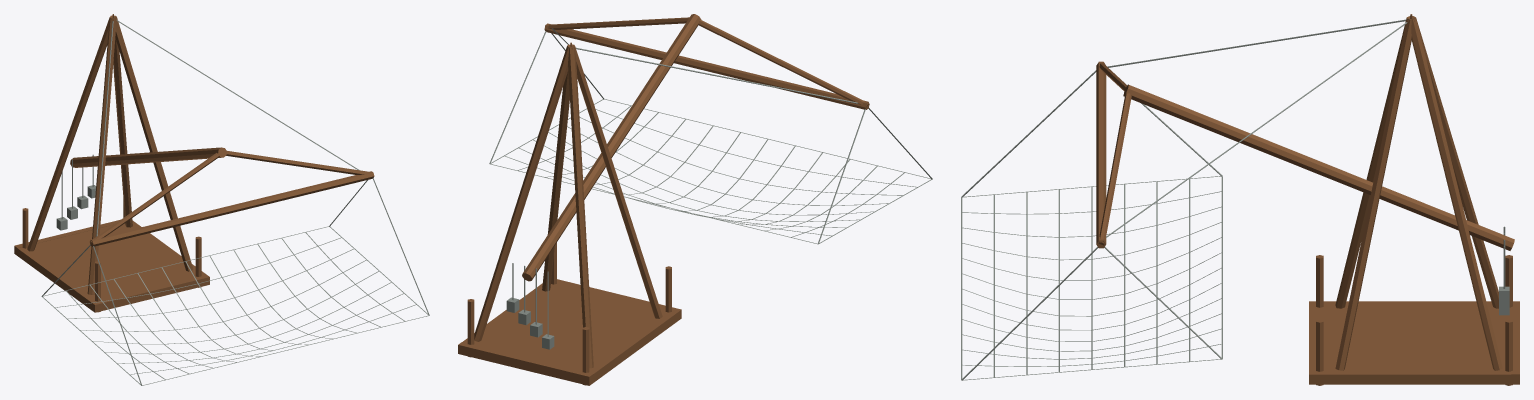
The model's file is ChineseFishingNet.glb.
3 views of the same model, side by side, from view 1: azimuth 30°, elevation 25°; view 2: azimuth 150°, elevation 25°; view 3: azimuth 270°, elevation 25° (orthographic). The views are drawn at different scales.
Parts seen in each view (by area): view 1: ChineseFishingNet_Terracotta_Roof, ChineseFishingNet_Stone_And_Metal; view 2: ChineseFishingNet_Terracotta_Roof, ChineseFishingNet_Stone_And_Metal; view 3: ChineseFishingNet_Terracotta_Roof, ChineseFishingNet_Stone_And_Metal.
Part boxes in pixels (x1,y1,x2,y2): ChineseFishingNet_Terracotta_Roof: (14,14,374,312); ChineseFishingNet_Stone_And_Metal: (41,20,429,385); ChineseFishingNet_Terracotta_Roof: (458,14,869,385); ChineseFishingNet_Stone_And_Metal: (489,28,932,349); ChineseFishingNet_Terracotta_Roof: (1096,14,1519,385); ChineseFishingNet_Stone_And_Metal: (961,19,1509,380).
Size of the model in its own units: 14 by 12 by 18.
